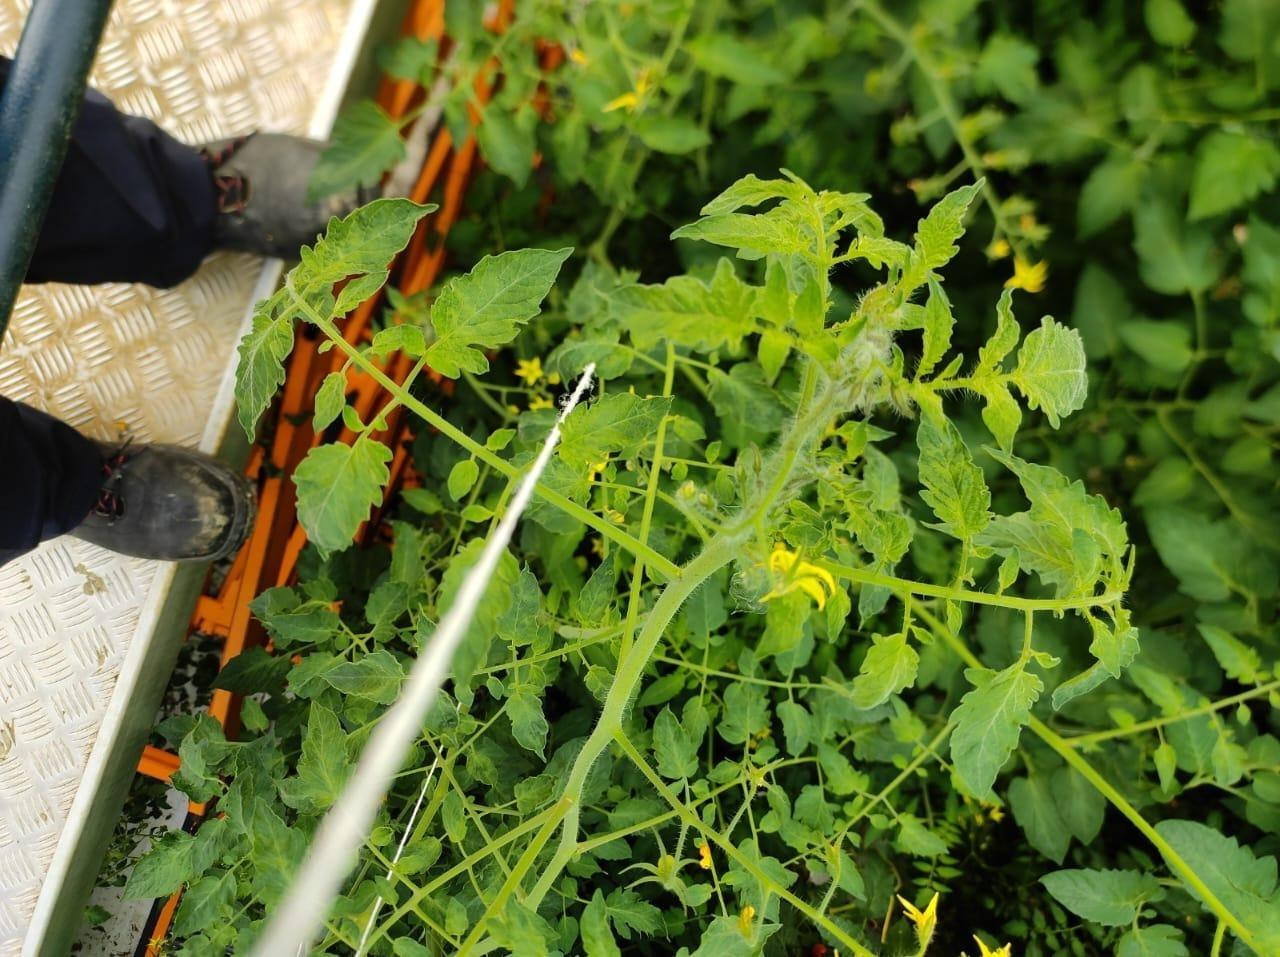Rugose leaf: (425, 250, 570, 376), (990, 450, 1127, 570), (949, 663, 1040, 800), (290, 437, 391, 555), (300, 197, 435, 282), (980, 510, 1100, 598), (917, 417, 990, 543), (899, 184, 979, 297), (1011, 316, 1086, 428), (1051, 620, 1139, 711), (235, 308, 295, 438), (561, 393, 672, 460), (673, 213, 809, 259), (298, 702, 353, 808), (849, 633, 918, 709), (325, 650, 406, 703), (972, 286, 1019, 376), (700, 174, 794, 216), (919, 279, 953, 374), (981, 382, 1021, 447), (313, 374, 343, 429), (798, 180, 813, 195)
Rugose stem: (840, 568, 1105, 612), (840, 930, 875, 956)
